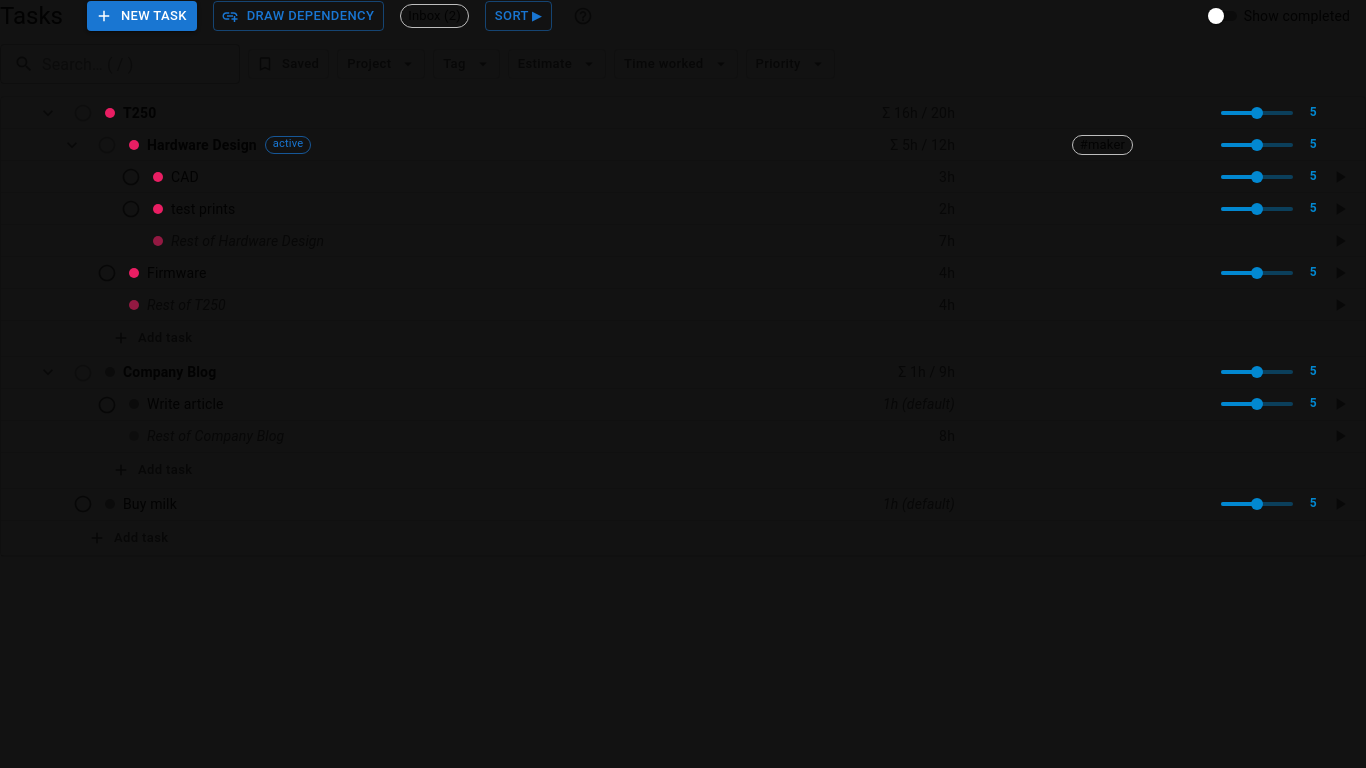
Scenario: the edit dialog in the tree (T-4) › ↑/↓ in the dialog walk the tree, skipping Rest rows; the selection follows
The width and height of the screenshot is (1366, 768).
Click the list item "test prints" at (683, 209), box x1=1 y1=193 x2=1365 y2=225
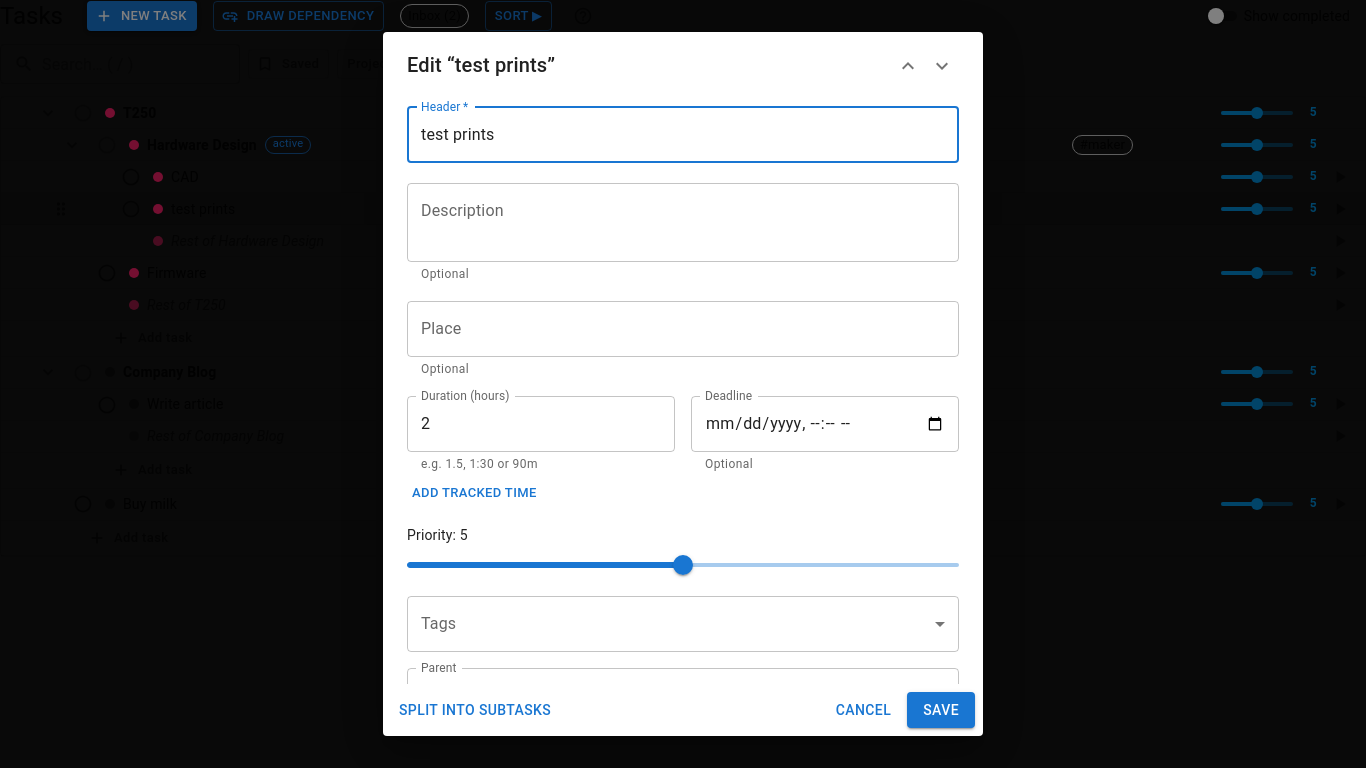
Click the button named "next task" at (942, 66), box x1=925 y1=49 x2=959 y2=83
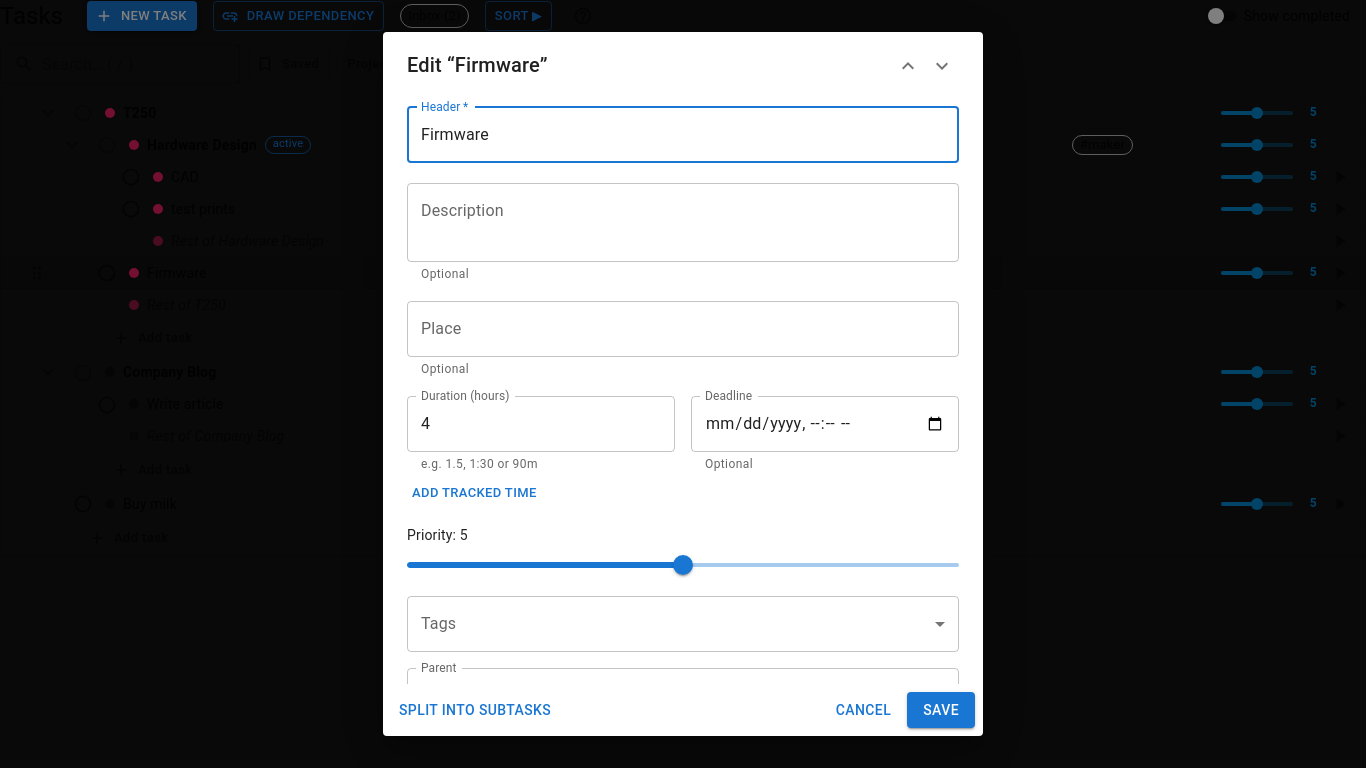
Note: "Rest of Hardware Design" comes next in the tree but is not a task.
Click the button "Cancel" at (863, 710), box x1=828 y1=692 x2=899 y2=728
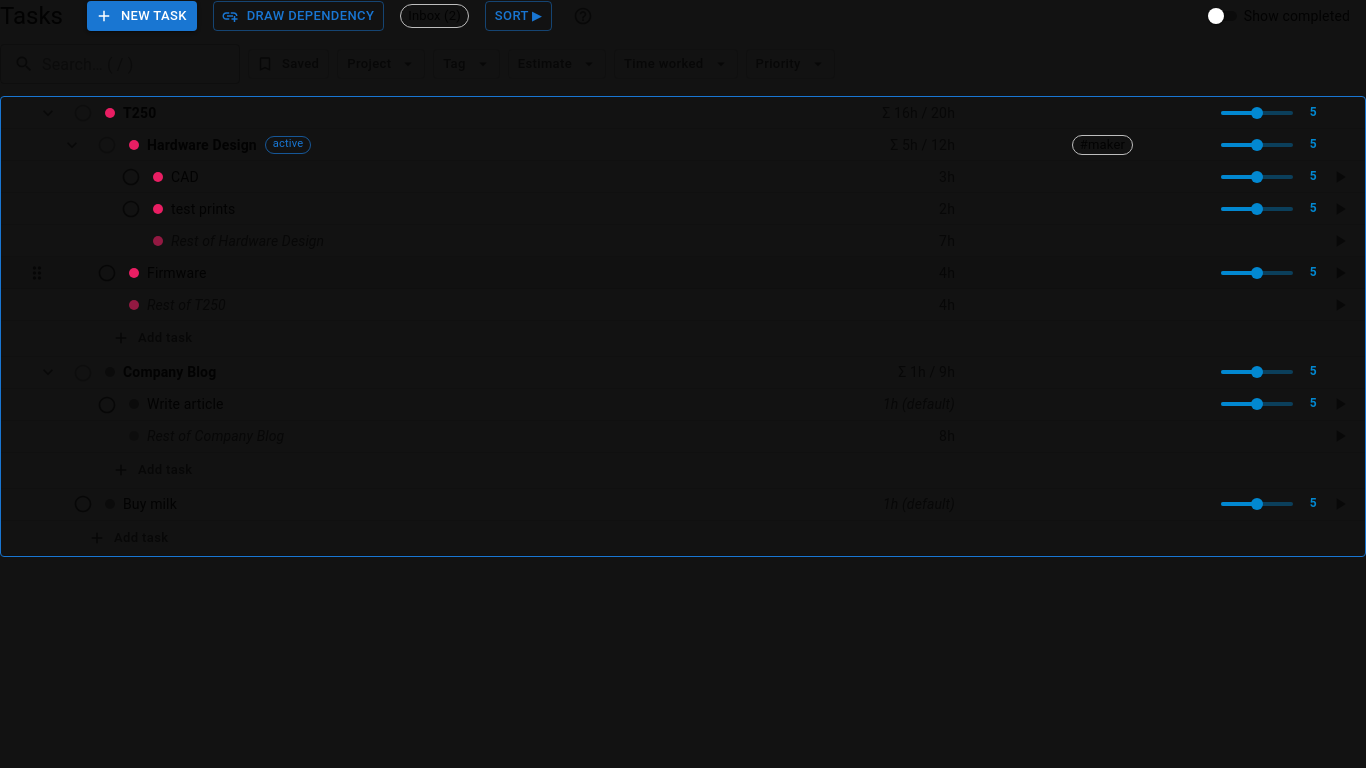
Check: the dialog is gone
